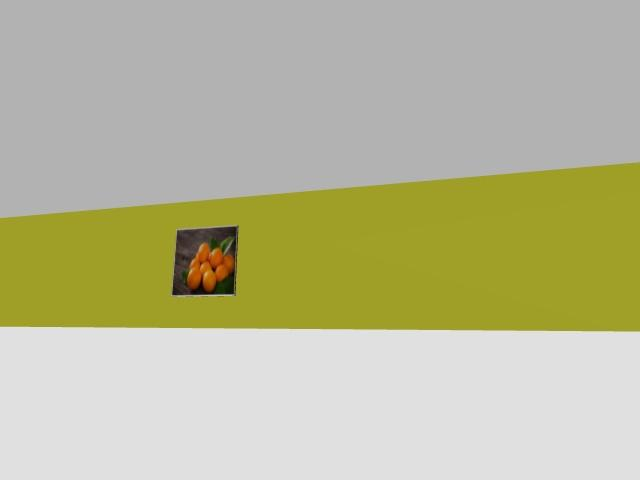orange: (187, 267, 201, 290), (202, 270, 216, 292), (209, 247, 222, 269), (215, 264, 228, 282), (197, 243, 209, 262), (223, 253, 234, 272), (200, 260, 211, 277), (189, 258, 199, 269)
